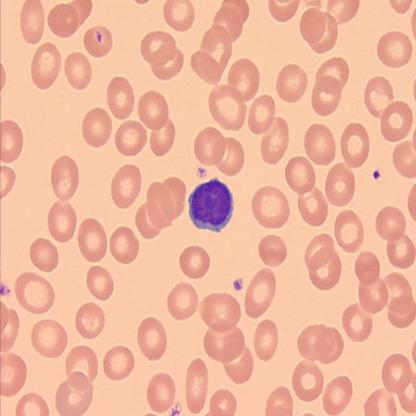Lymphocyte: (188, 175, 235, 234)
